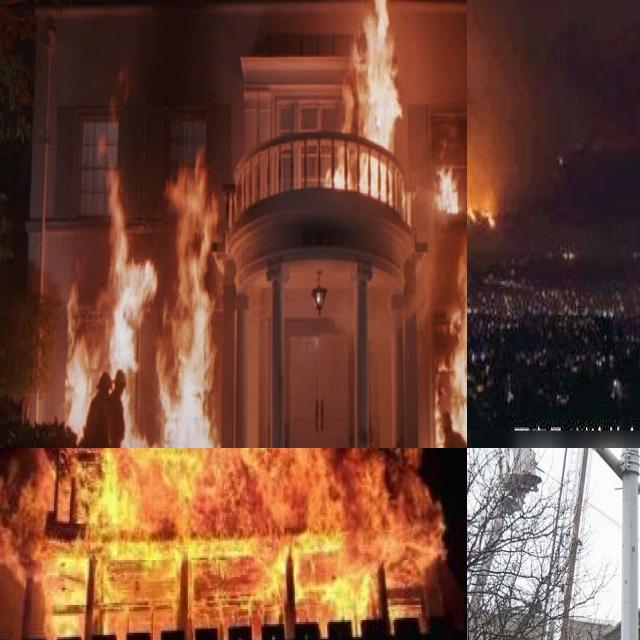fire: (12, 448, 448, 628), (61, 142, 225, 448), (335, 0, 399, 211), (430, 155, 467, 448)
